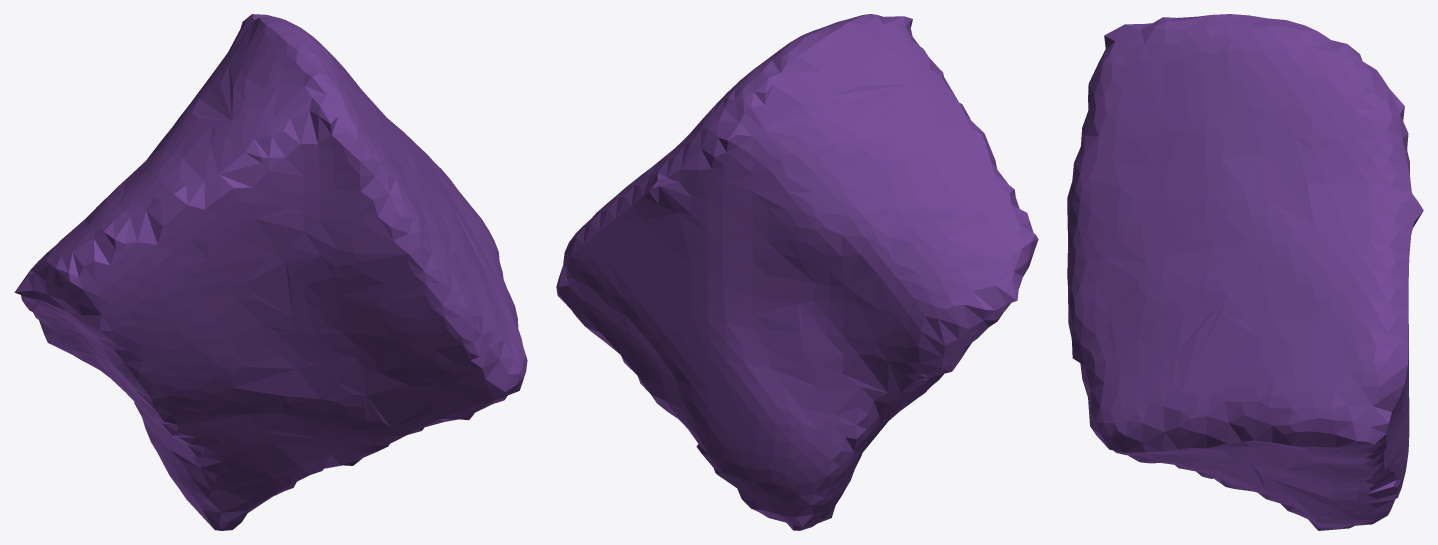
File: Model_70_RH__Area_45_of_cortex_(A45).obj
3 views of the same model, side by side, from view 1: azimuth 30°, elevation 25°; view 2: azimuth 150°, elevation 25°; view 3: azimuth 270°, elevation 25° (orthographic). The views are drawn at different scales.
Size of the model in its own units: 2.62 by 2.66 by 1.65.
